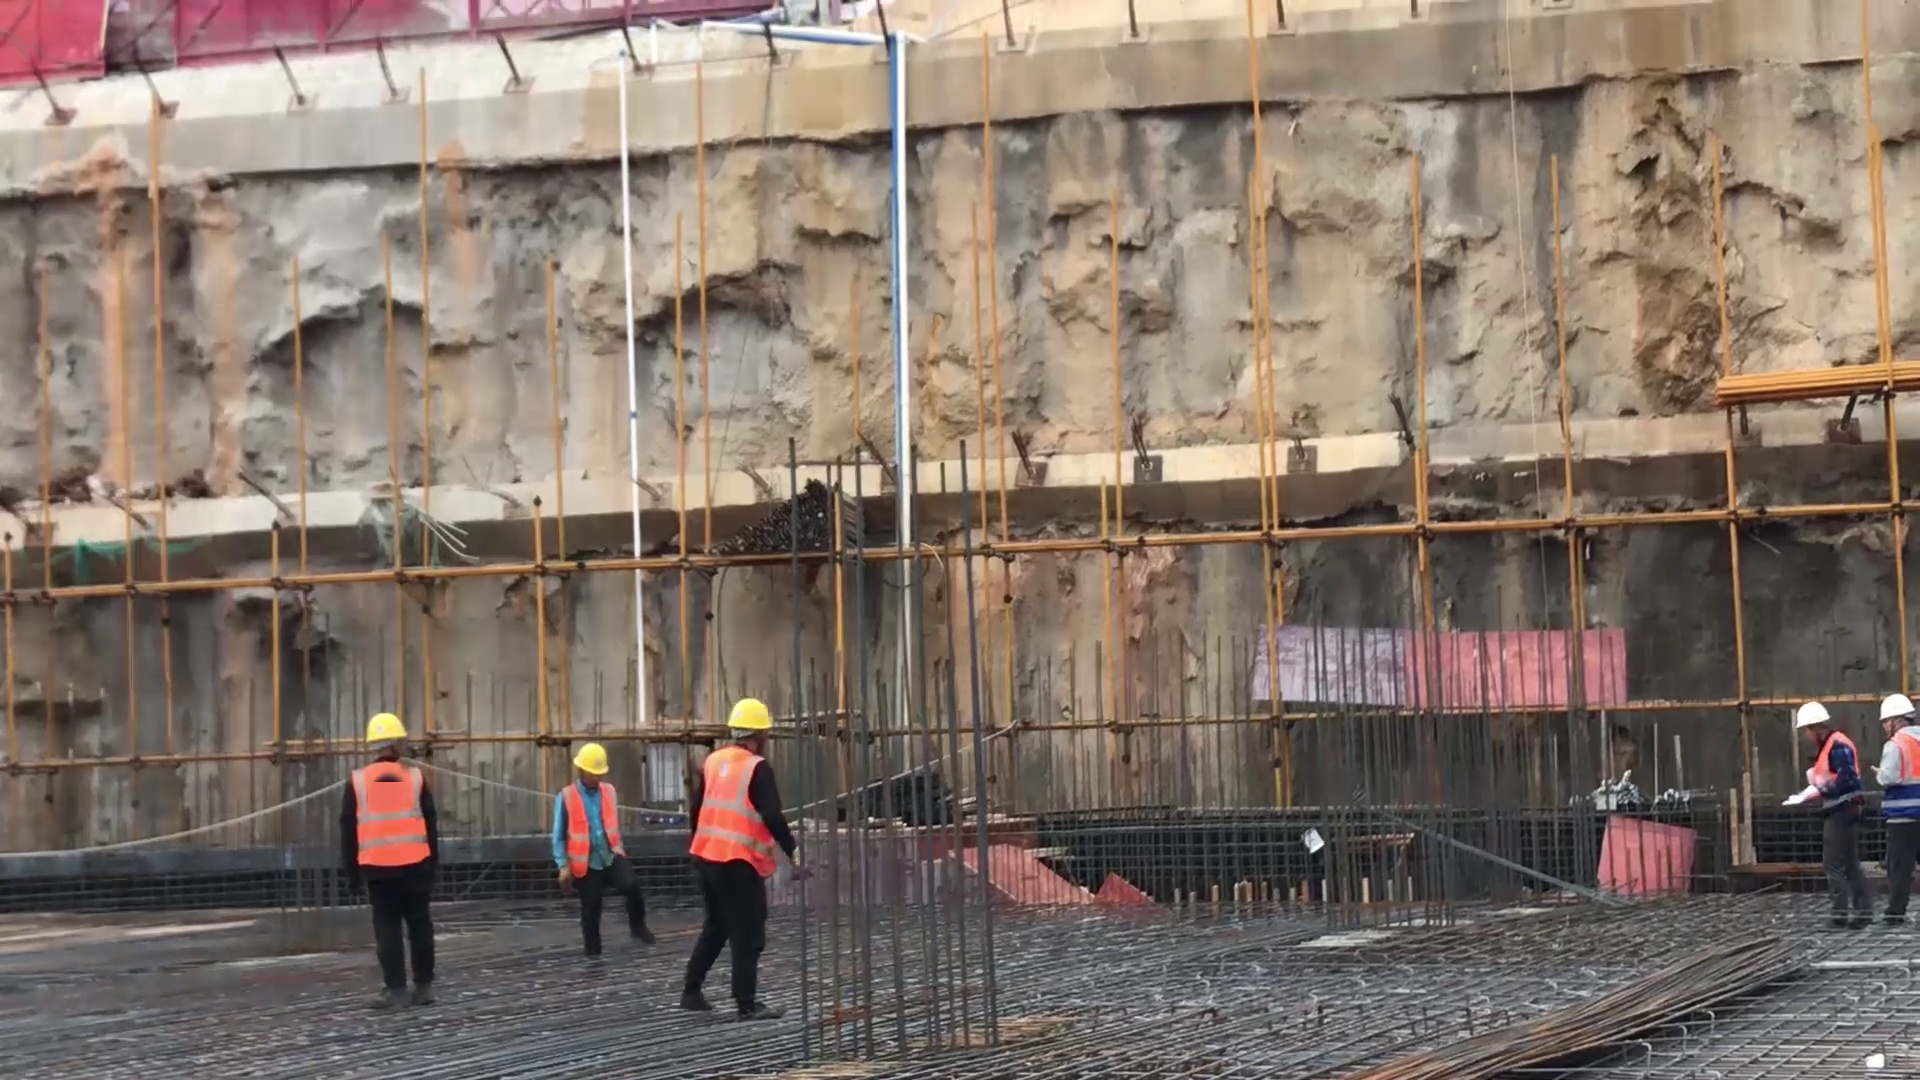helmet: (359, 712, 410, 748), (726, 696, 774, 734), (573, 745, 612, 785), (1882, 691, 1916, 722), (1792, 703, 1831, 729)
person: (677, 696, 802, 1018), (332, 706, 445, 1014), (550, 743, 657, 961), (1784, 703, 1873, 933), (1870, 691, 1920, 928)
rebar: (1346, 929, 1826, 1080)
vest: (691, 747, 791, 885), (346, 763, 439, 873), (559, 784, 635, 877), (1806, 734, 1862, 811), (1882, 728, 1917, 817)
